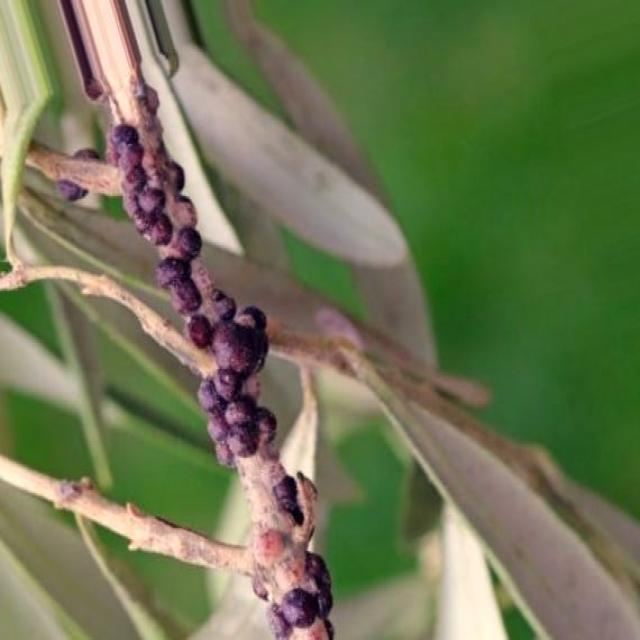Black Scale: (108, 124, 276, 465), (267, 551, 333, 638), (272, 465, 303, 525), (57, 179, 88, 201), (74, 149, 101, 159)
